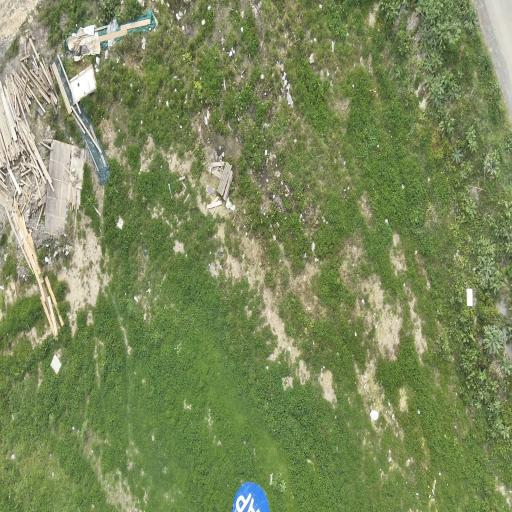UAP: (233, 483, 269, 511)
